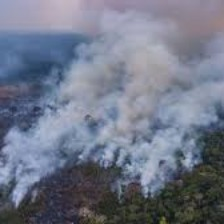incendio: (1, 66, 193, 194)
